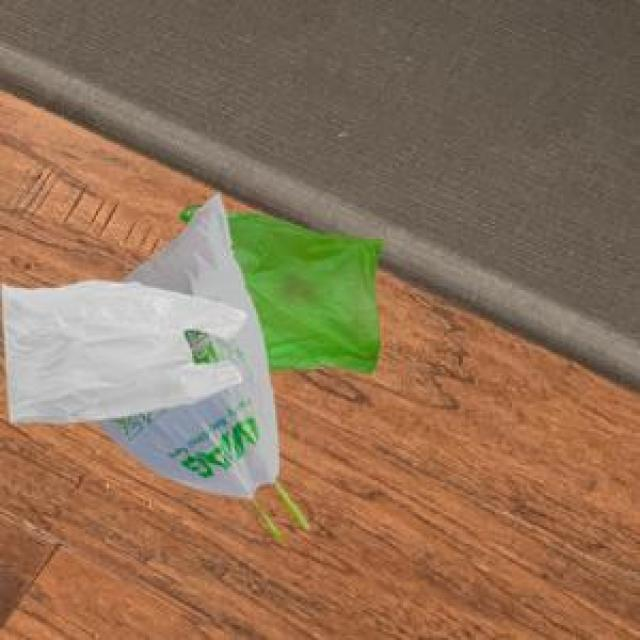waste: (2, 194, 378, 497)
